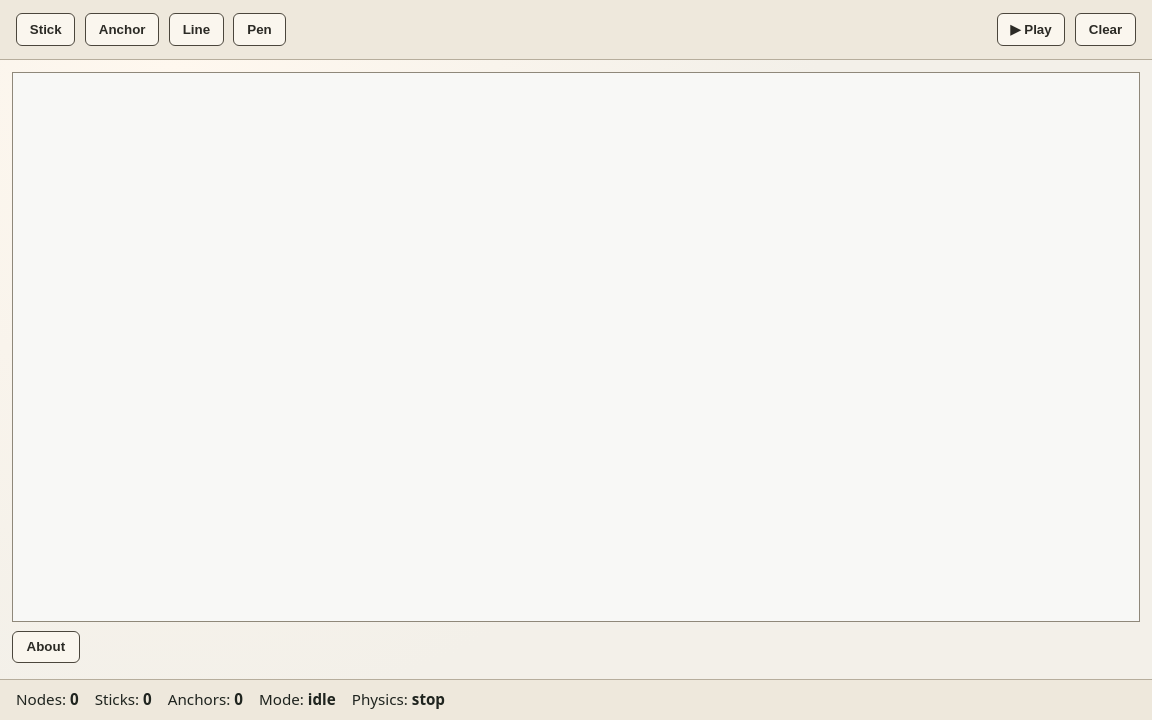
App integration › creates a host-stick attachment constraint when a stick endpoint lands on stick interior
Step 1. Click the button with test id "tool-stick" → (46, 29), box x1=16 y1=13 x2=76 y2=46
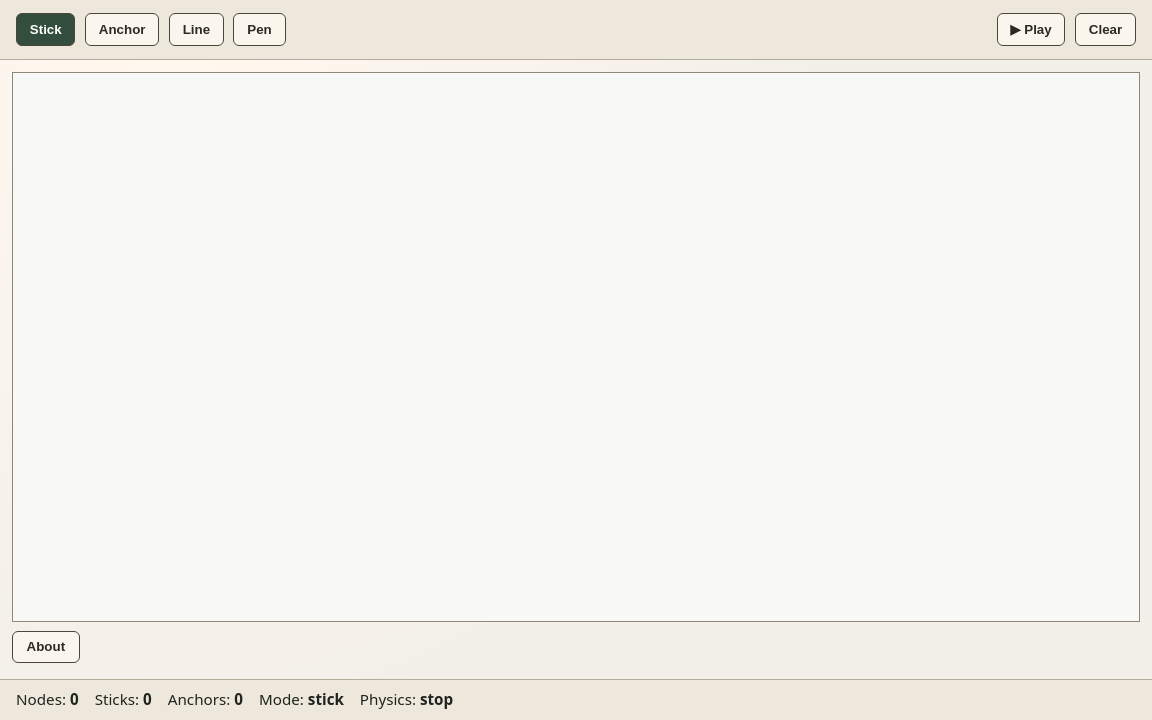
Step 2. Press the mouse on the drawing with test id "linkage-canvas" → (576, 347), box x1=12 y1=72 x2=1140 y2=622
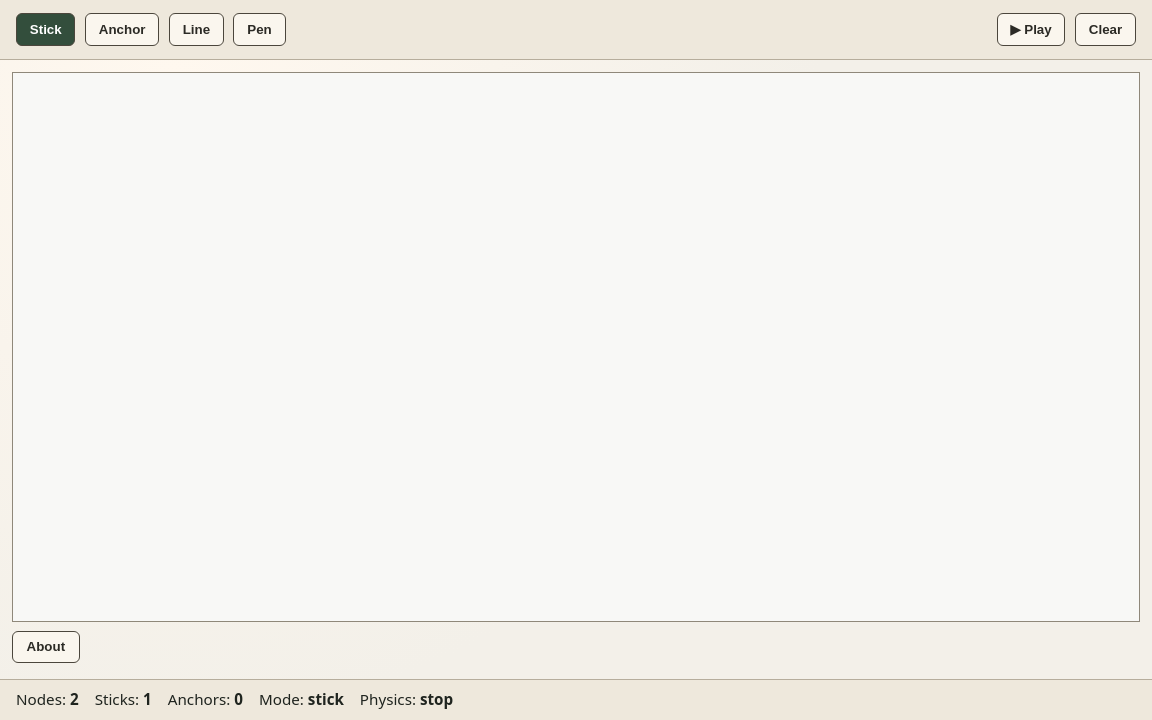
Step 3. Press the mouse on the drawing with test id "linkage-canvas" → (576, 347), box x1=12 y1=72 x2=1140 y2=622
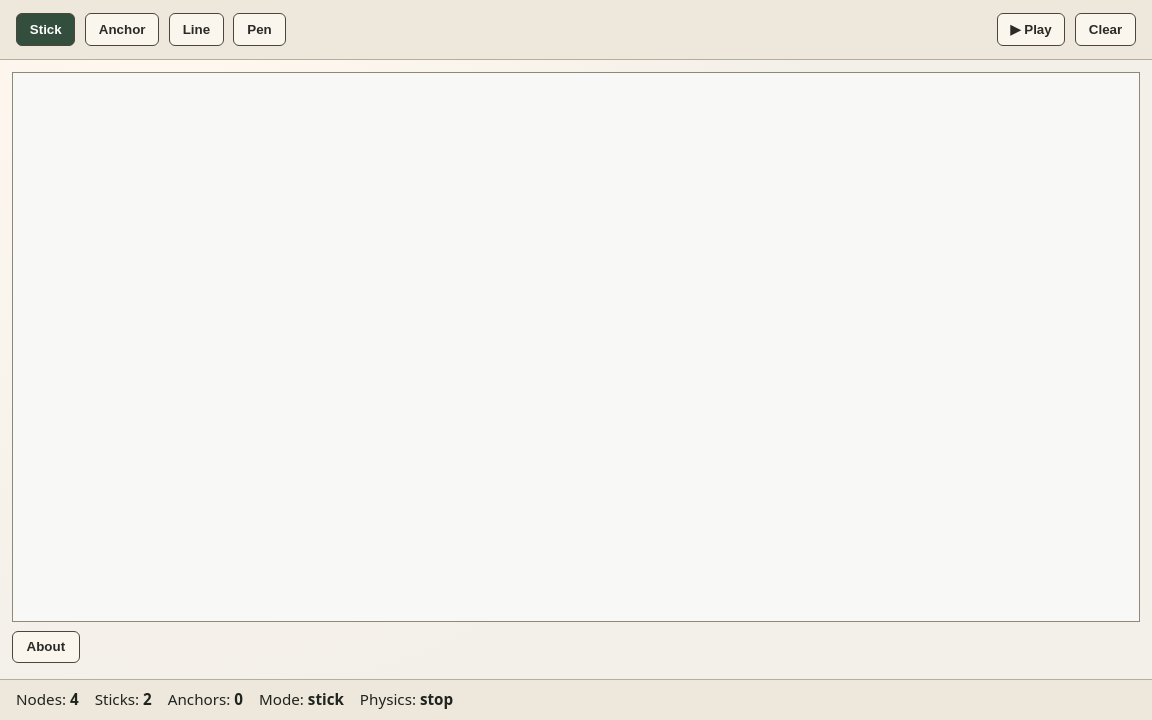
Expected: the text with test id "stick-count" reads "2", x1=143 y1=689 x2=152 y2=709
